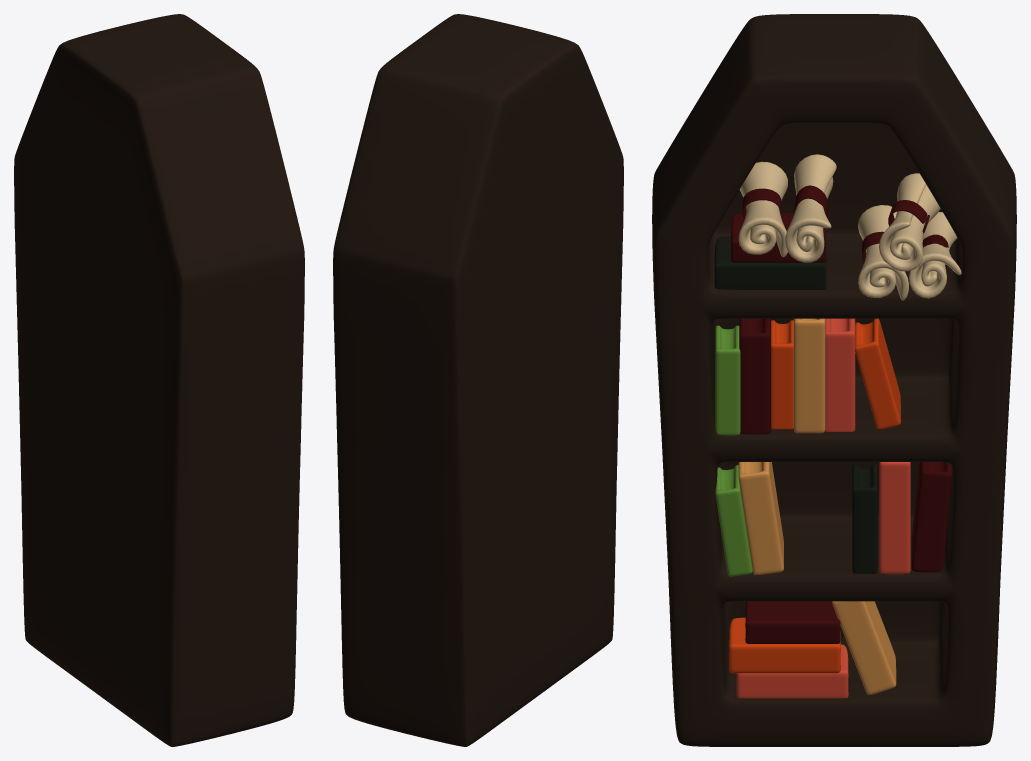
The model's file is shelves.obj.
3 renders of one model, left to right at view 1: azimuth 30°, elevation 25°; view 2: azimuth 150°, elevation 25°; view 3: azimuth 270°, elevation 25°, orthographic. The views are drawn at different scales.
Parts seen in each view (by area): view 1: shelves; view 2: shelves; view 3: shelves.
Boxes of the visible parts, x1,y1,x2,y2 form: shelves: (14,14,304,746); shelves: (333,14,623,746); shelves: (652,14,1016,746).
Bounding box in the file's own units: 0.6267 × 2.68 × 1.31.
